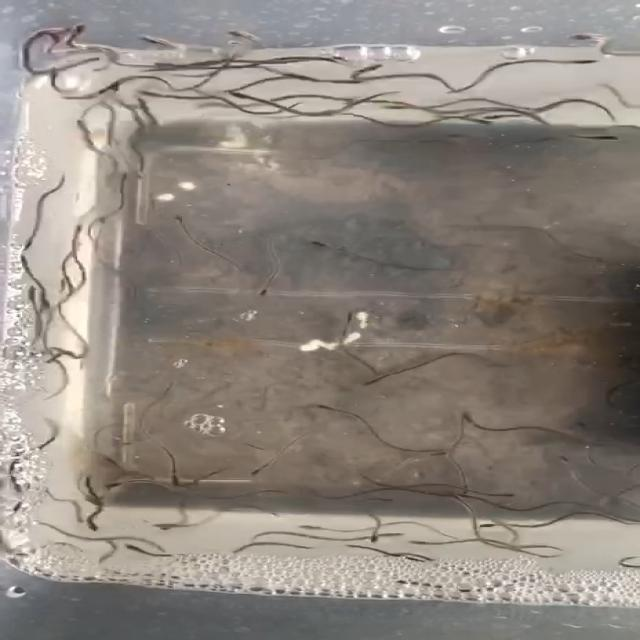inactive_glass_eel: (468, 478, 524, 508), (570, 123, 624, 153), (285, 233, 364, 252), (128, 28, 185, 54), (205, 86, 275, 107), (562, 48, 608, 79), (70, 24, 116, 52), (25, 282, 62, 314), (108, 542, 166, 562), (17, 20, 64, 44), (161, 210, 211, 232), (444, 400, 486, 426), (39, 64, 75, 93), (70, 514, 114, 536), (103, 472, 145, 493), (460, 514, 500, 536), (251, 456, 286, 481), (255, 272, 287, 299), (223, 27, 264, 46), (312, 396, 343, 419), (349, 524, 383, 544), (357, 374, 386, 397), (158, 473, 190, 493), (571, 25, 599, 45), (341, 312, 362, 338), (551, 454, 576, 473)
